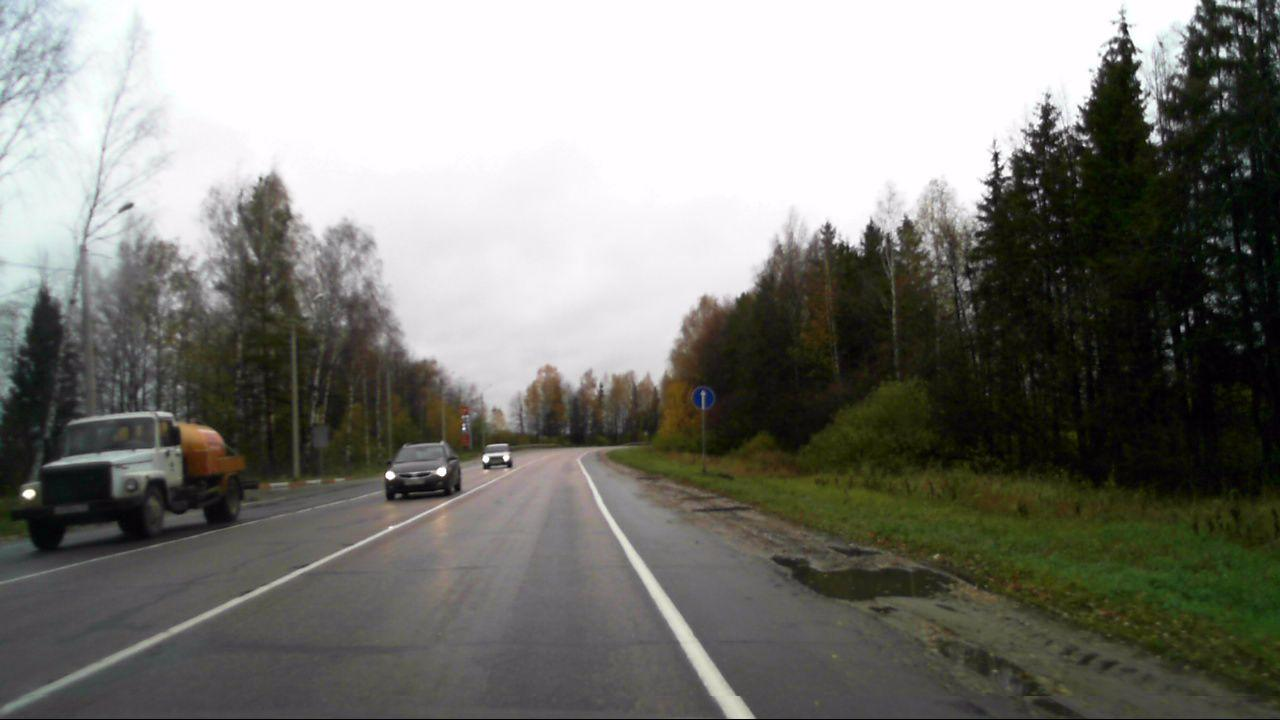road_sign: (691, 386, 716, 410)
